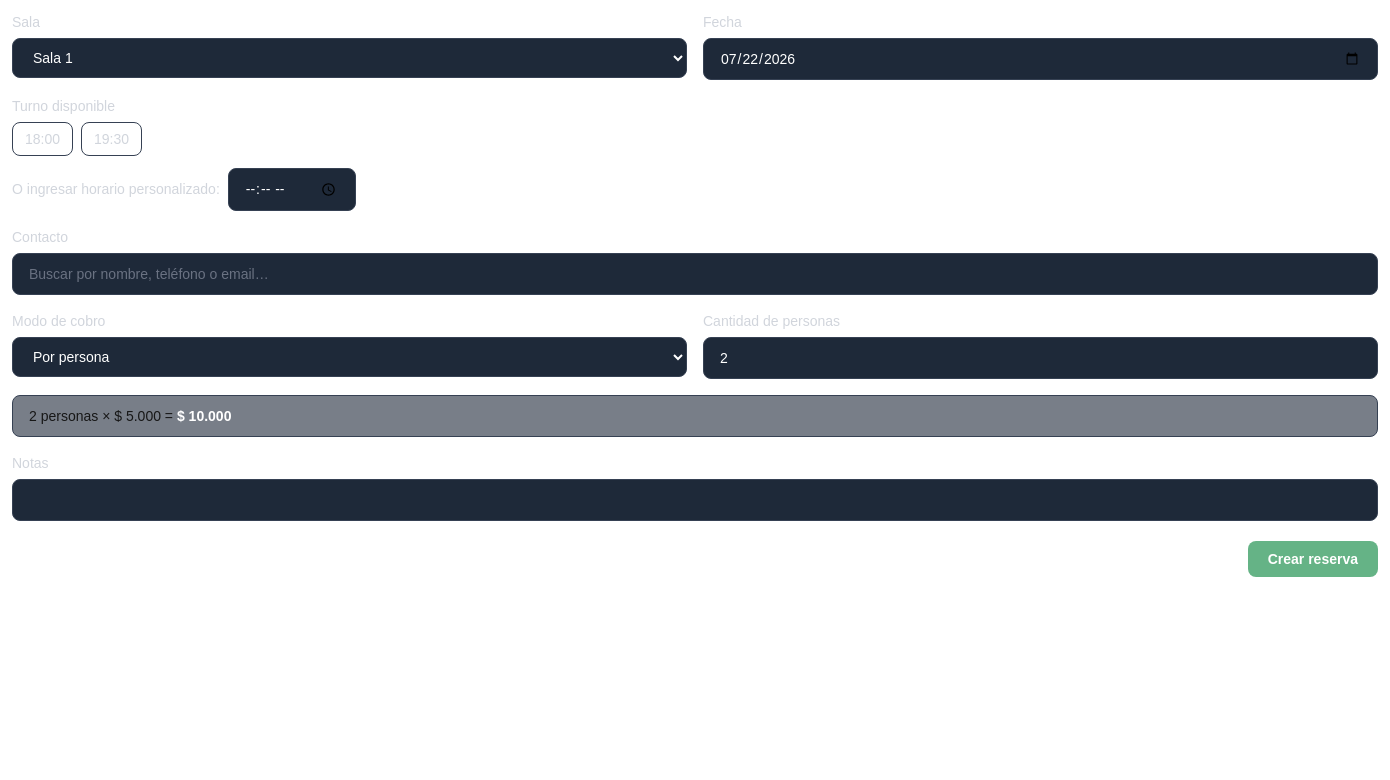
Scenario: ReservaForm — turno personalizado (FIX 4) › shows an inline error for a custom time outside the configured horario
Type "23:30" into the time field labelled "O ingresar horario personalizado:". click: (292, 189)
box: [228,168,356,211]
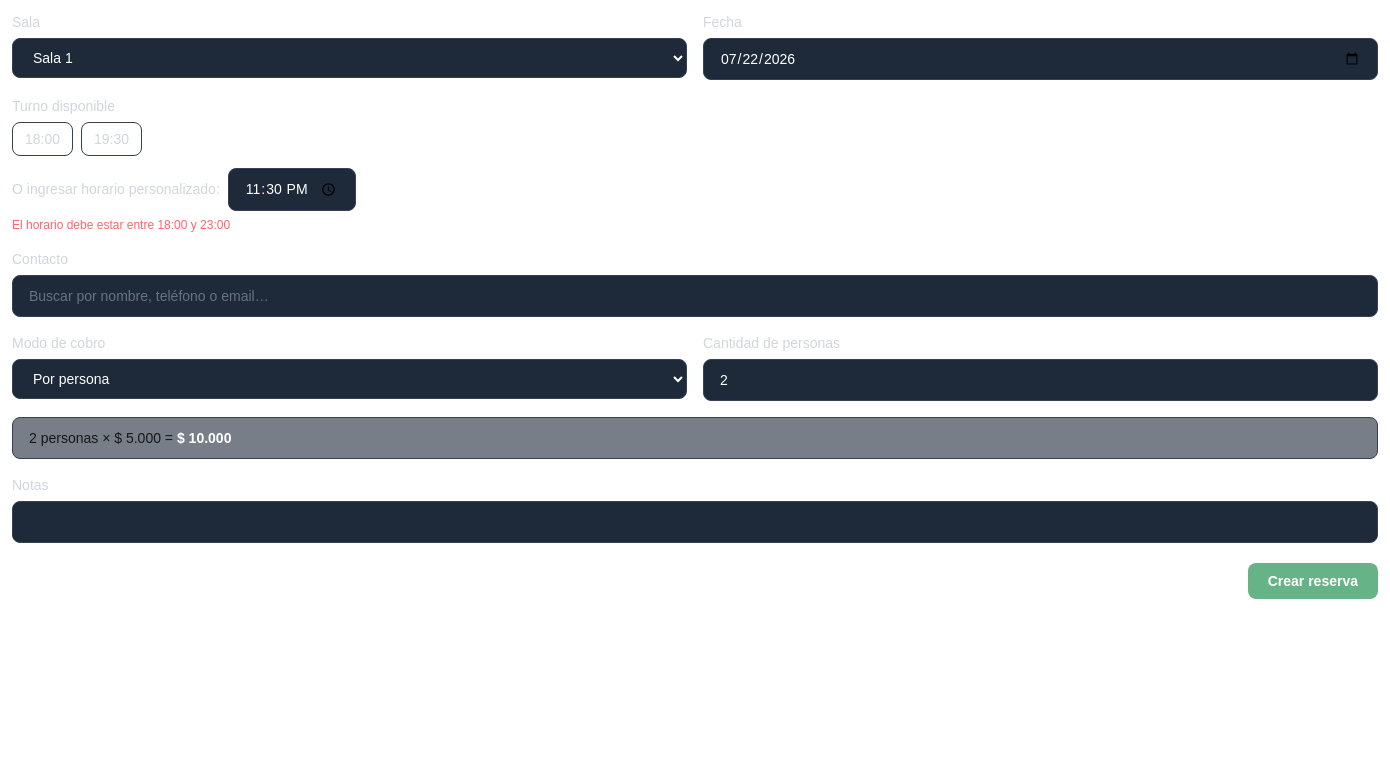
Now the text "El horario debe estar entre 18:00 y 23:00" is shown, box [12,218,230,232]
